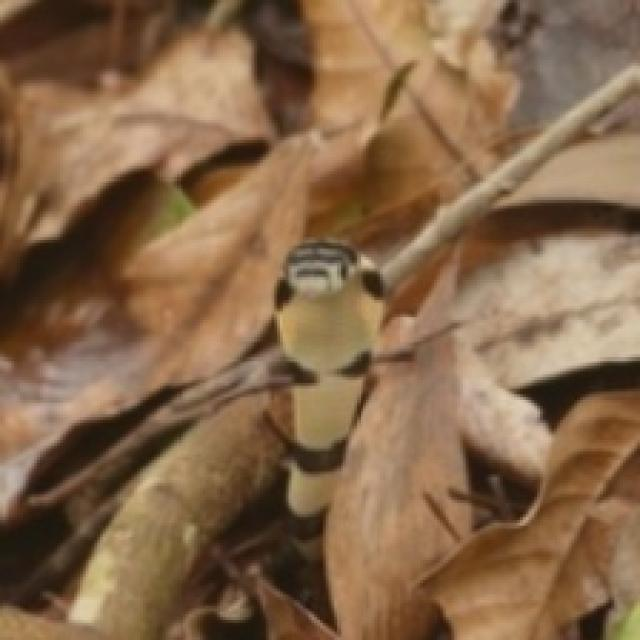king cobra: (274, 240, 383, 517)
